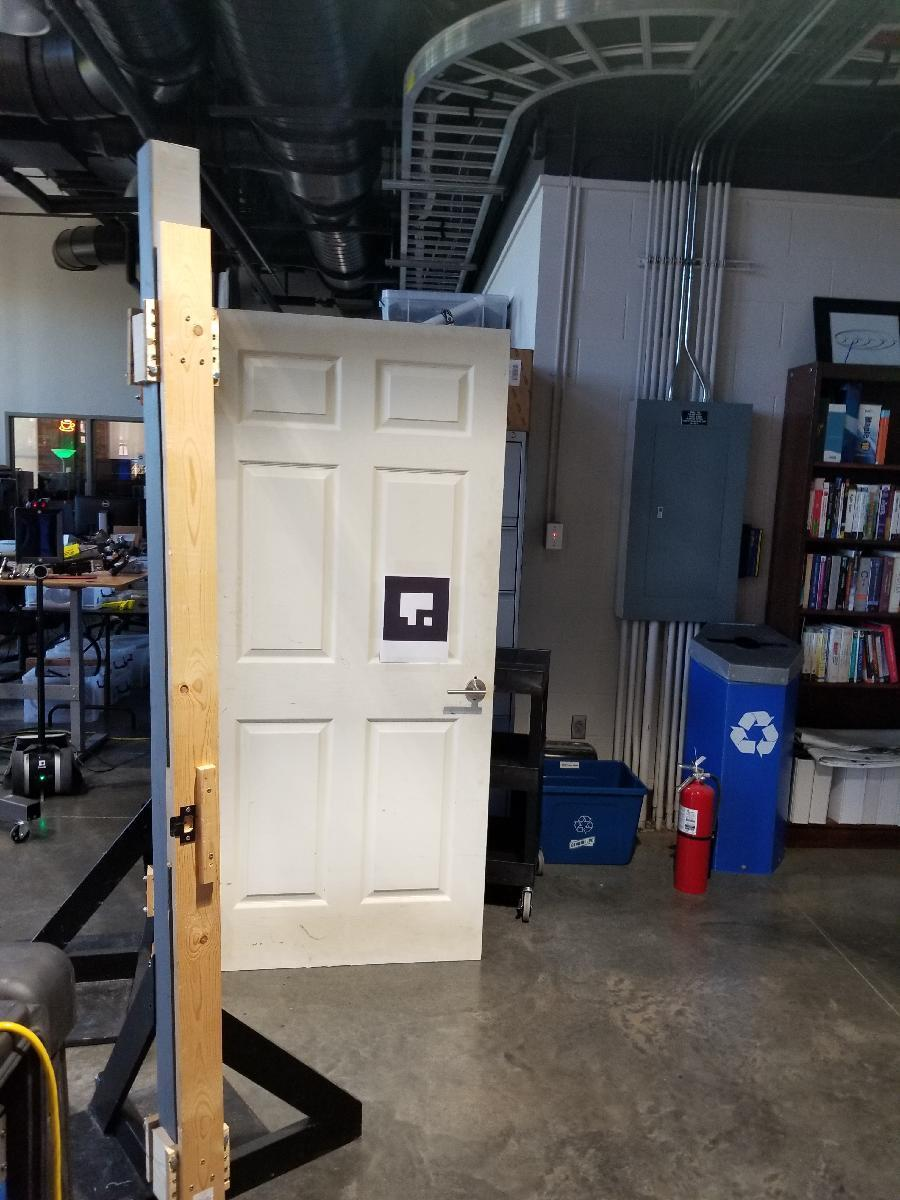door: (214, 303, 494, 975)
handle: (442, 672, 488, 704)
